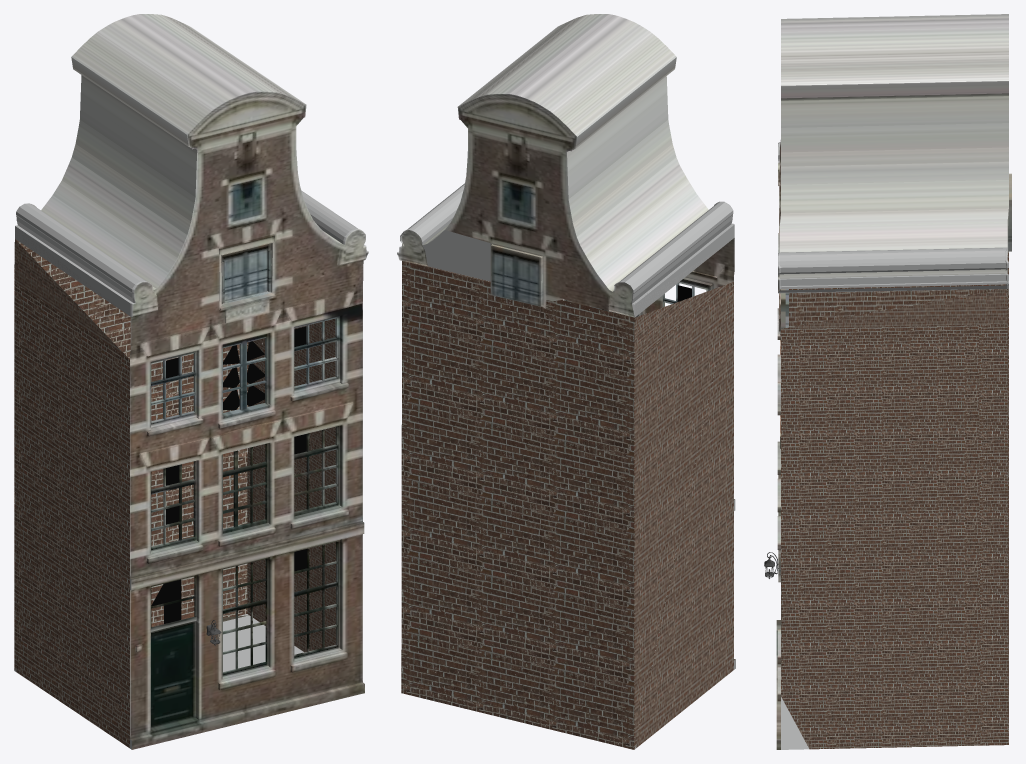
Rendered from sf_townhouse_1.glb.
3 views of the same model, side by side, from view 1: azimuth 30°, elevation 25°; view 2: azimuth 150°, elevation 25°; view 3: azimuth 270°, elevation 25° (orthographic). The views are drawn at different scales.
Visible parts, largest first — view 1: Amsterdam canal house by JJ_House_0, Amsterdam canal house by JJ_Material.001_0, Amsterdam canal house by JJ_Frosted Glass_0; view 2: Amsterdam canal house by JJ_Material.001_0, Amsterdam canal house by JJ_House_0; view 3: Amsterdam canal house by JJ_Material.001_0, Amsterdam canal house by JJ_House_0.
Part boxes in pixels (x1=…): Amsterdam canal house by JJ_House_0: x1=14, y1=14, x2=368, y2=749; Amsterdam canal house by JJ_Material.001_0: x1=14, y1=239, x2=335, y2=748; Amsterdam canal house by JJ_Frosted Glass_0: x1=151, y1=326, x2=306, y2=623; Amsterdam canal house by JJ_Material.001_0: x1=401, y1=261, x2=733, y2=749; Amsterdam canal house by JJ_House_0: x1=397, y1=14, x2=735, y2=749; Amsterdam canal house by JJ_Material.001_0: x1=781, y1=251, x2=1008, y2=749; Amsterdam canal house by JJ_House_0: x1=776, y1=14, x2=1011, y2=749.
Bounding box in the file's own units: 5.33 × 13 × 4.4.
Materials: 4 (2 with a texture image).
